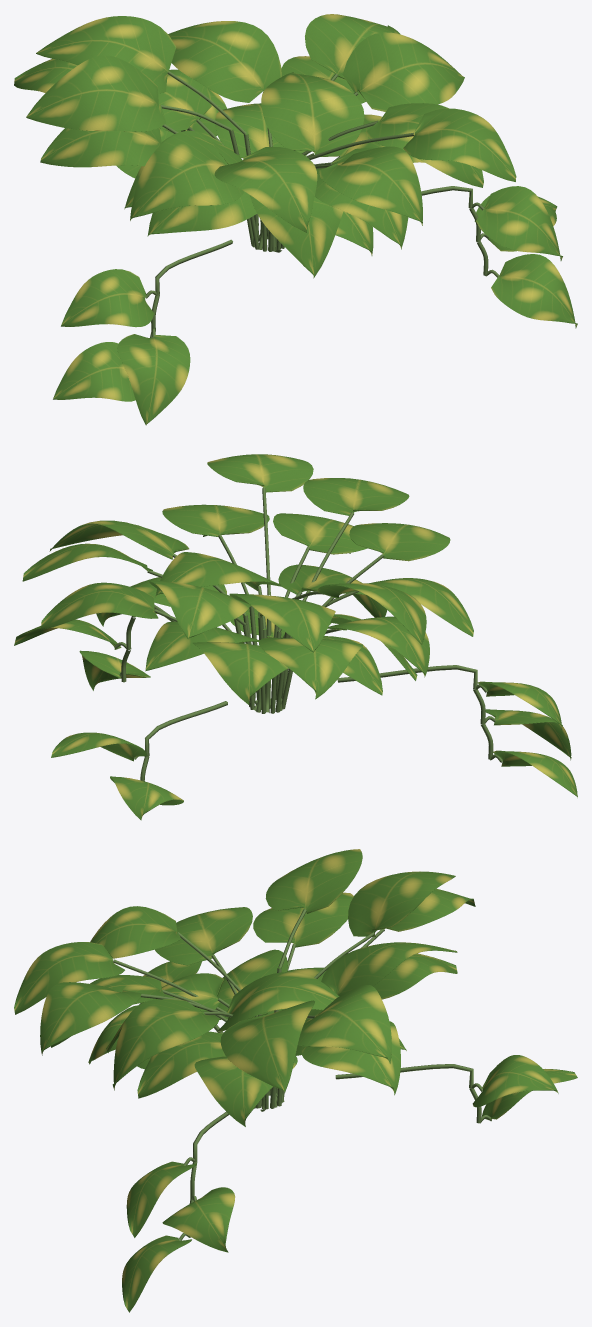
The model's file is pothos-stage-5.glb.
The picture shows the model from 3 angles, top to bottom: view 1: azimuth 30°, elevation 25°; view 2: azimuth 150°, elevation 25°; view 3: azimuth 270°, elevation 25°; orthographic projection.
Visible parts, largest first — view 1: Leaf_20, Leaf_14, Leaf_11, Leaf_8, Leaf_10, Leaf_17, Leaf_15, Leaf_18, Leaf_21, Leaf_33, PlantBranches, Leaf_37 (+16 smaller); view 2: PlantBranches, Leaf_12, Leaf_6, Leaf_14, Leaf_9, Leaf_18, Leaf_21, Leaf_17, Leaf_15, Leaf_8, Leaf_16, Leaf_13 (+17 smaller); view 3: Leaf_11, Leaf_16, Leaf_19, PlantBranches, Leaf_21, Leaf_17, Leaf_20, Leaf_18, Leaf_8, Leaf_10, Leaf_15, Leaf_14 (+16 smaller).
Part boxes in pixels (<box>): Leaf_20: <box>26,55,166,131</box>; Leaf_14: <box>168,21,281,102</box>; Leaf_11: <box>342,32,464,111</box>; Leaf_8: <box>261,72,364,156</box>; Leaf_10: <box>130,134,244,220</box>; Leaf_17: <box>36,16,176,93</box>; Leaf_15: <box>214,147,317,232</box>; Leaf_18: <box>319,146,422,225</box>; Leaf_21: <box>403,108,516,181</box>; Leaf_33: <box>117,334,190,425</box>; PlantBranches: <box>145,71,499,337</box>; Leaf_37: <box>491,254,577,328</box>; PlantBranches: <box>114,487,502,781</box>; Leaf_12: <box>259,637,362,699</box>; Leaf_6: <box>41,582,158,629</box>; Leaf_14: <box>149,580,250,638</box>; Leaf_9: <box>192,642,288,704</box>; Leaf_18: <box>303,478,409,515</box>; Leaf_21: <box>207,454,313,492</box>; Leaf_17: <box>229,593,335,652</box>; Leaf_15: <box>349,523,450,561</box>; Leaf_8: <box>155,552,281,596</box>; Leaf_16: <box>162,504,269,536</box>; Leaf_13: <box>273,513,367,554</box>; Leaf_11: <box>220,1000,314,1092</box>; Leaf_16: <box>112,999,219,1090</box>; Leaf_19: <box>298,985,391,1063</box>; PlantBranches: <box>113,909,491,1240</box>; Leaf_21: <box>40,982,141,1055</box>; Leaf_17: <box>348,871,455,937</box>; Leaf_20: <box>265,849,362,913</box>; Leaf_18: <box>14,942,124,1014</box>; Leaf_8: <box>218,972,339,1031</box>; Leaf_10: <box>155,907,252,965</box>; Leaf_15: <box>90,906,181,958</box>; Leaf_14: <box>321,942,457,996</box>.
Size of the model in its own units: 3.07 by 1.54 by 2.82.
2 materials, 1 textured.
